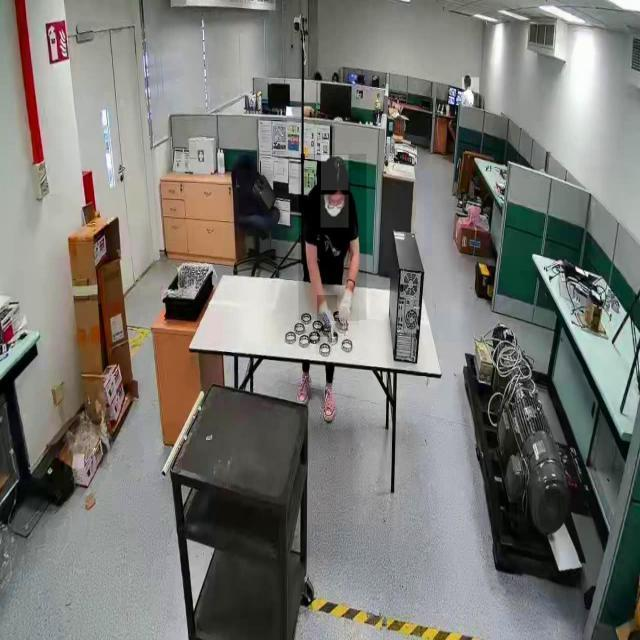boots: (319, 382, 339, 428), (295, 367, 316, 409)
gloves: (338, 284, 360, 326), (317, 295, 338, 338)
